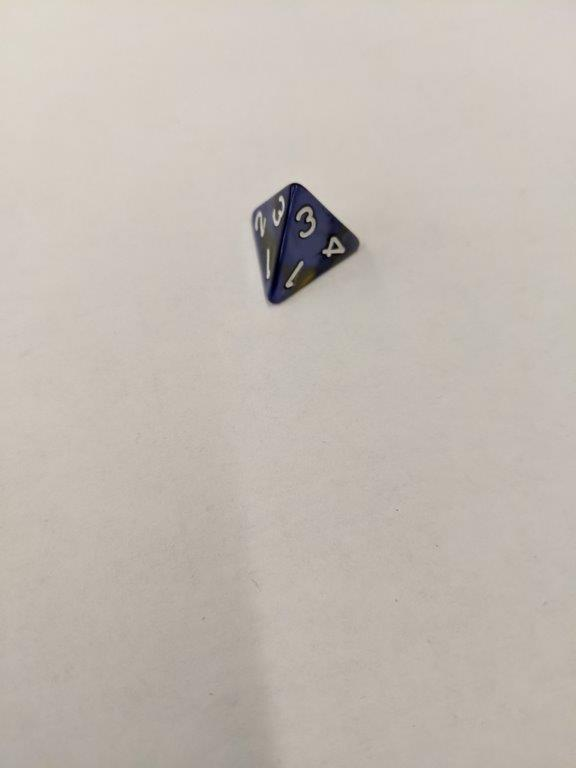d4-3: (245, 179, 364, 311)
